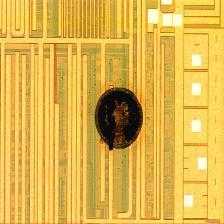PARTICLE: (86, 85, 154, 153)
